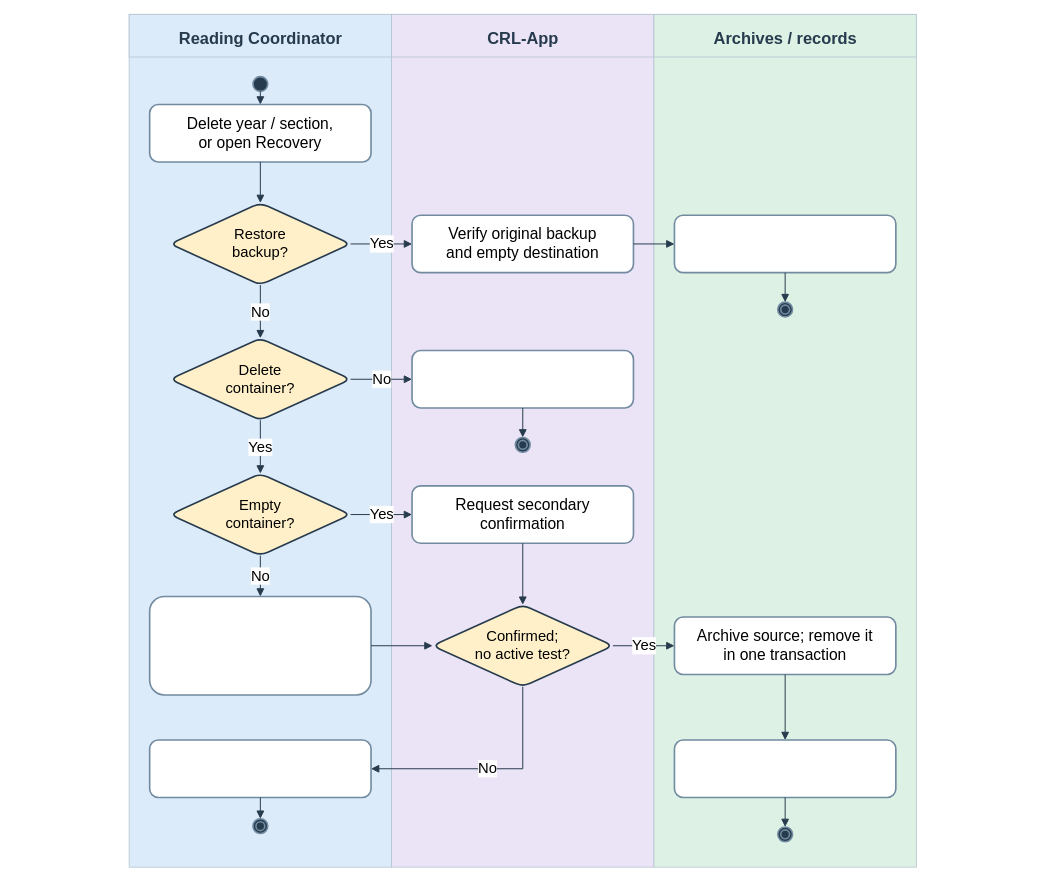
This 1045x882 diagram has some shape labels left out. Here are the shapes that lost their labels. From the top down, the centre of each, then its label:
(x=784, y=243): Restore class once; retain original deadline
(x=522, y=378): Keep class unchanged; return to the workspace
(x=259, y=645): Verify account password; reason: year required; section optional; confirm sync
(x=259, y=768): Retain source data; explain restriction
(x=784, y=768): Show original teacher and 30 days in Recovery
